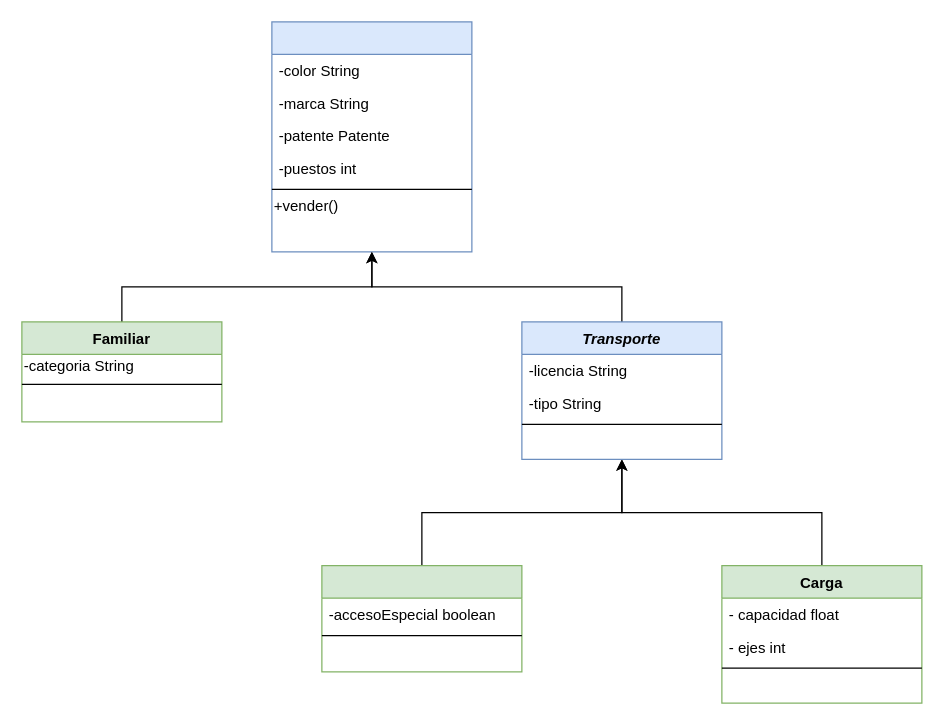
The diagram is 944 pixels wide and 725 high, and some of its shapes have lost their labels. The shapes that lost their labels are listed below. From the top down, each one's box as (x1, y1, x2, y2) in pixels, then its label:
(271, 21, 472, 252): Auto
(321, 564, 522, 672): Pasajeros
